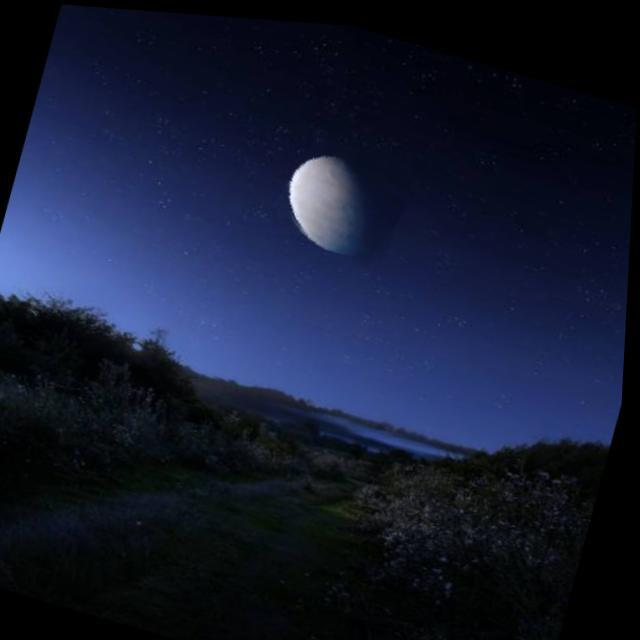moon: (271, 126, 418, 262)
